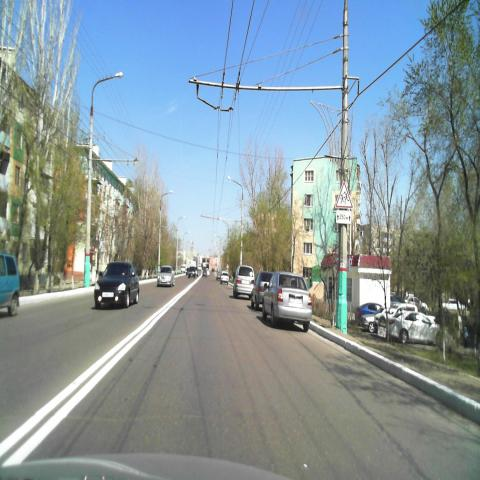1_23: (335, 181, 353, 209)
8_2_1: (336, 210, 352, 224)
